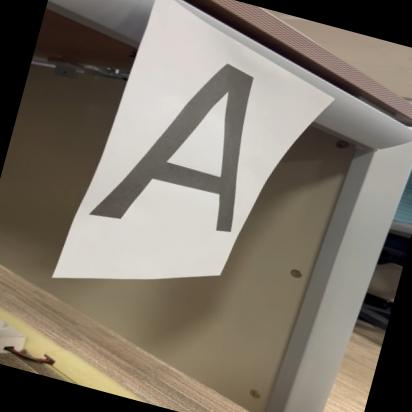seat: (79, 36, 292, 284)
